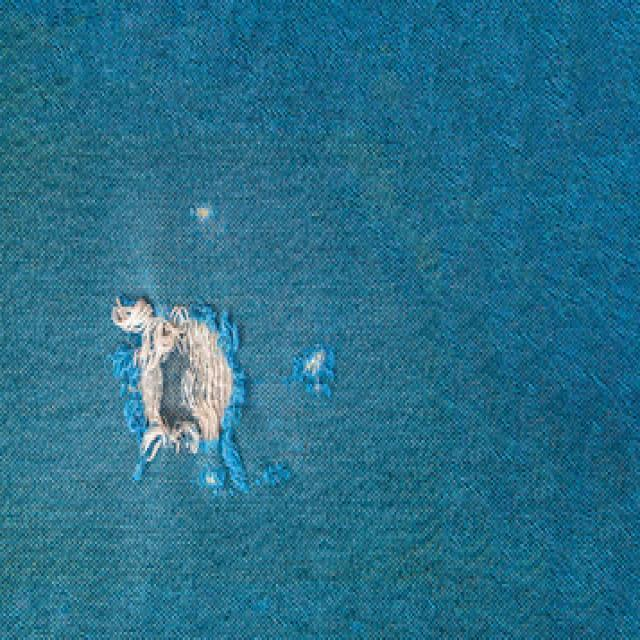Hole: (111, 296, 244, 476), (301, 344, 336, 396), (190, 201, 220, 232)
